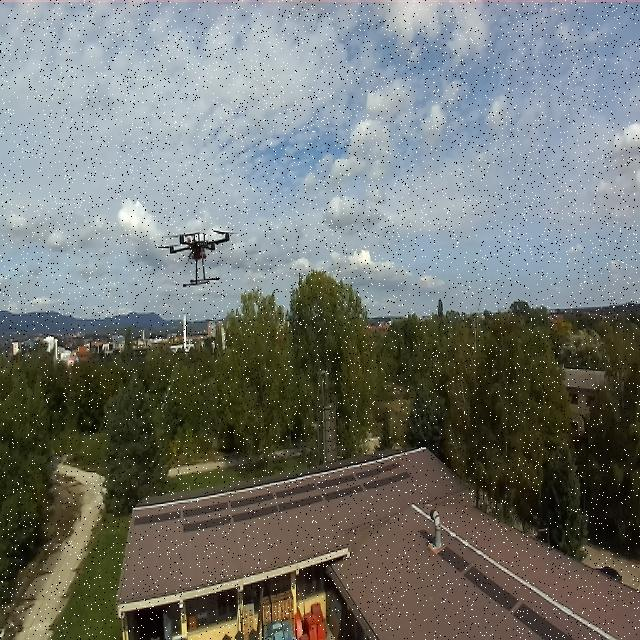UAV: (153, 220, 243, 291)
